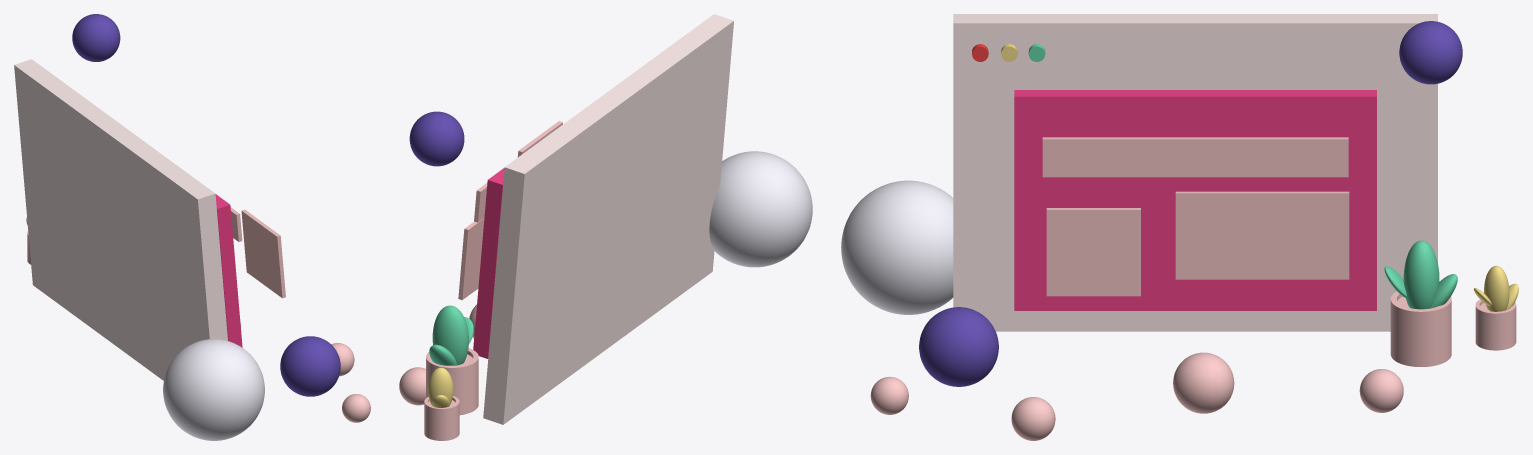
The picture shows the model from 3 angles, left to right: view 1: azimuth 30°, elevation 25°; view 2: azimuth 150°, elevation 25°; view 3: azimuth 270°, elevation 25°; orthographic projection. The views are drawn at different scales.
Parts seen in each view (by area): view 1: Cube, Sphere 2, Sphere, Cube 4, Cube 2, Sphere 3, Sphere 7, Sphere 6; view 2: Cube, Sphere 2, Cube 2, Pipe (×2), Sphere 3, Sphere 8 (×2), Cube 5, Sphere 5, Sphere 9; view 3: Cube, Cube 2, Cube 5, Sphere 2, Cube 3, Cube 4, Pipe (×2), Sphere, Sphere 3, Sphere 4, Sphere 8 (×2), Sphere 5 (+2 smaller).
Part boxes in pixels (left/top/right/bottom): Cube: left=14, top=59, right=227, bottom=380; Sphere 2: left=163, top=339, right=264, bottom=440; Sphere: left=280, top=336, right=340, bottom=396; Cube 4: left=241, top=209, right=285, bottom=298; Cube 2: left=215, top=194, right=242, bottom=347; Sphere 3: left=72, top=14, right=120, bottom=61; Sphere 7: left=342, top=394, right=370, bottom=422; Sphere 6: left=331, top=343, right=354, bottom=376; Cube: left=483, top=14, right=733, bottom=424; Sphere 2: left=709, top=151, right=812, bottom=267; Cube 2: left=473, top=168, right=504, bottom=358; Pipe (×2): left=424, top=348, right=478, bottom=440; Sphere 3: left=409, top=111, right=464, bottom=166; Sphere 8 (×2): left=428, top=305, right=468, bottom=405; Cube 5: left=458, top=218, right=484, bottom=300; Sphere 5: left=399, top=367, right=425, bottom=405; Sphere 9: left=429, top=344, right=456, bottom=365; Cube: left=953, top=14, right=1437, bottom=331; Cube 2: left=1014, top=90, right=1376, bottom=310; Cube 5: left=1175, top=191, right=1349, bottom=279; Sphere 2: left=841, top=180, right=953, bottom=314; Cube 3: left=1042, top=137, right=1348, bottom=177; Cube 4: left=1046, top=208, right=1140, bottom=296; Pipe (×2): left=1390, top=291, right=1516, bottom=366; Sphere: left=919, top=307, right=998, bottom=386; Sphere 3: left=1399, top=21, right=1462, bottom=84; Sphere 4: left=1173, top=352, right=1234, bottom=413; Sphere 8 (×2): left=1403, top=240, right=1509, bottom=311; Sphere 5: left=1359, top=369, right=1403, bottom=412.
Bounding box in the file's own units: 0.2593 × 0.2977 × 0.5019.
